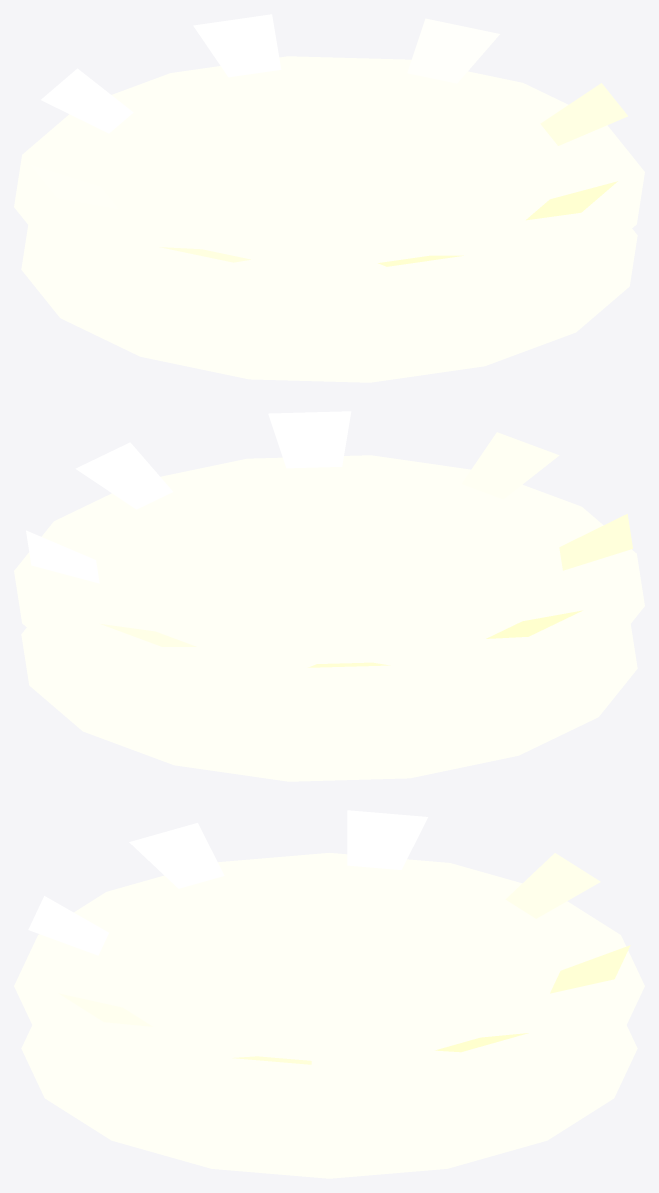
Rendered from Holograma_Neon.gltf.
3 renders of one model, top to bottom at view 1: azimuth 30°, elevation 25°; view 2: azimuth 150°, elevation 25°; view 3: azimuth 270°, elevation 25°, orthographic.
Parts seen in each view (by area): view 1: Neon; view 2: Neon; view 3: Neon.
Part boxes in pixels (bbox=[...]): Neon: bbox=[14, 14, 644, 382]; Neon: bbox=[14, 411, 644, 781]; Neon: bbox=[14, 810, 644, 1178].
Size of the model in its own units: 2.75 by 0.5342 by 2.75.
